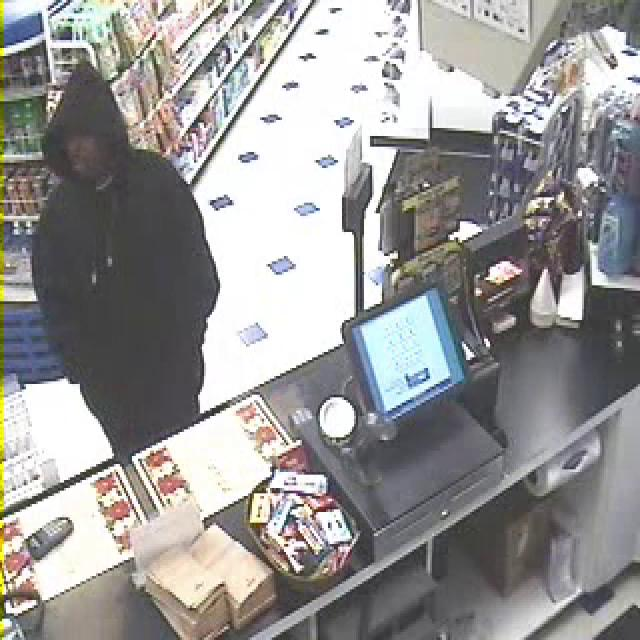robbery: (35, 55, 289, 496)
